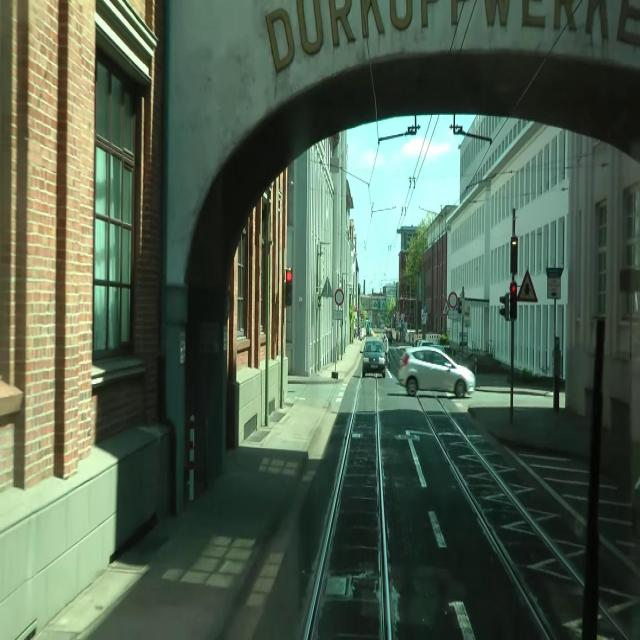danger: (396, 335, 486, 405), (358, 322, 396, 383)
rail: (420, 401, 556, 639), (436, 396, 585, 587), (304, 379, 361, 640), (505, 446, 588, 527), (376, 379, 393, 640), (600, 535, 640, 577), (601, 606, 628, 639), (615, 623, 628, 639)
